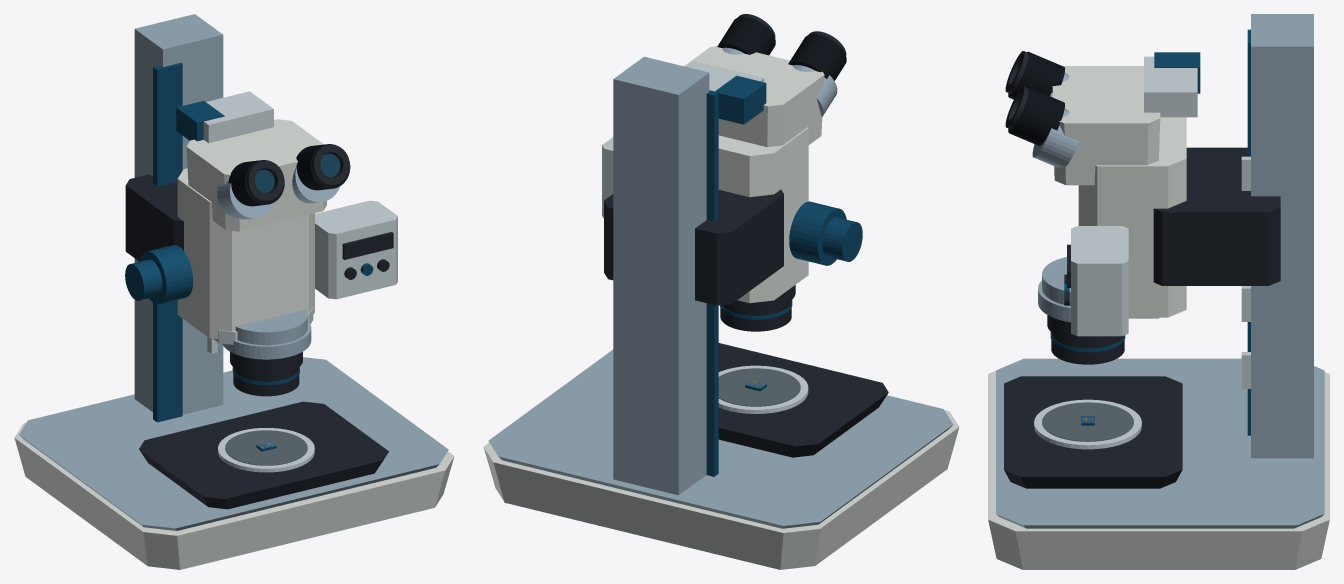
File: zeiss-discovery-v12.glb
3 renders of one model, left to right at view 1: azimuth 30°, elevation 25°; view 2: azimuth 150°, elevation 25°; view 3: azimuth 270°, elevation 25°, orthographic. The views are drawn at different scales.
Visible parts, largest first — view 1: base, column, stage, zoom_body, binocular, aux_control, oculars, objective, carriage, focus_collar; view 2: base, column, stage, binocular, carriage, zoom_body, oculars, focus_collar, objective, aux_control; view 3: base, column, stage, carriage, binocular, zoom_body, aux_control, oculars, objective.
Part boxes in pixels (x1,y1,x2,y2): base: (14, 357, 454, 569); column: (134, 14, 223, 422); stage: (139, 401, 388, 509); zoom_body: (177, 168, 314, 359); binocular: (176, 91, 326, 231); aux_control: (315, 200, 397, 299); oculars: (217, 144, 350, 219); objective: (230, 309, 307, 396); carriage: (125, 174, 183, 261); focus_collar: (125, 245, 193, 304); base: (483, 349, 959, 569); column: (613, 56, 718, 495); stage: (718, 343, 888, 457); binocular: (684, 46, 824, 147); carriage: (604, 189, 783, 305); zoom_body: (718, 127, 808, 303); oculars: (717, 14, 846, 116); focus_collar: (789, 201, 862, 265); objective: (719, 285, 795, 331); aux_control: (602, 137, 613, 218); base: (988, 358, 1329, 569); column: (1241, 14, 1313, 458); stage: (1004, 376, 1182, 488); carriage: (1153, 147, 1280, 285); binocular: (1052, 52, 1200, 185); zoom_body: (1038, 117, 1186, 322); aux_control: (1067, 226, 1128, 336); oculars: (1005, 51, 1079, 167); objective: (1042, 257, 1125, 364).
Size of the model in its own units: 0.304 by 0.3895 by 0.26.
